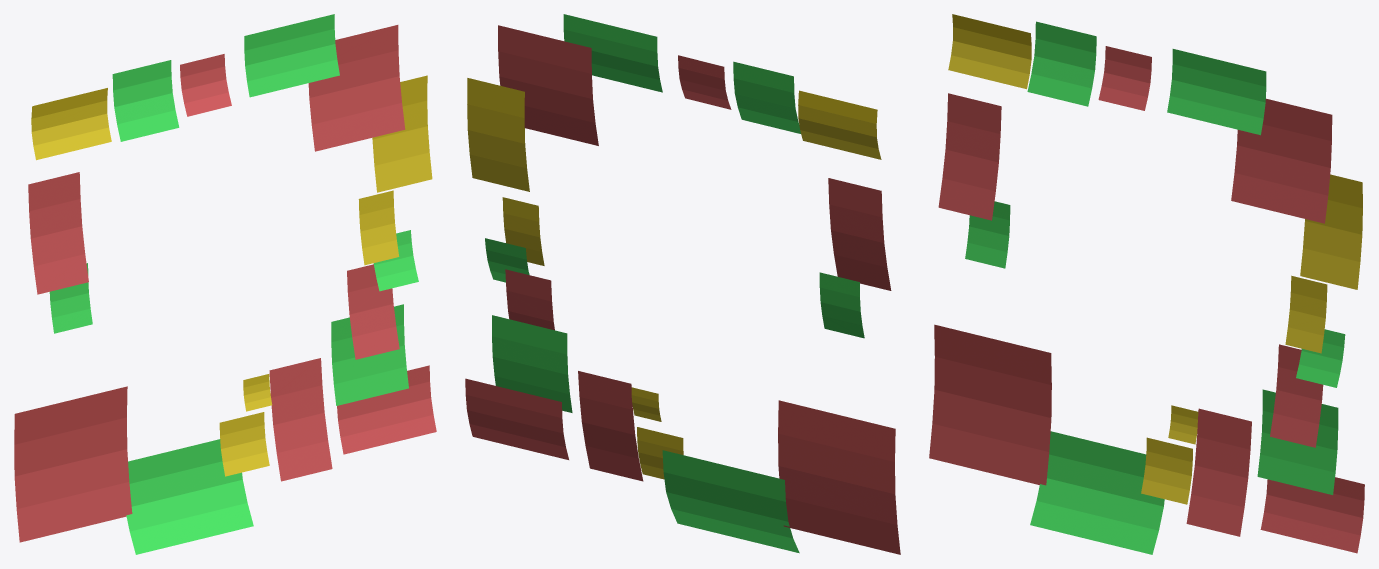
File: Computer_001_postIt.fbx
3 views of the same model, side by side, from view 1: azimuth 30°, elevation 25°; view 2: azimuth 150°, elevation 25°; view 3: azimuth 330°, elevation 25° (orthographic). The views are drawn at different scales.
Parts seen in each view (by area): view 1: Plane.018; view 2: Plane.018; view 3: Plane.018.
Boxes of the visible parts, left/top/right/bottom form: Plane.018: left=14, top=14, right=436, bottom=554; Plane.018: left=465, top=14, right=900, bottom=554; Plane.018: left=929, top=14, right=1364, bottom=554.
Bounding box in the file's own units: 42.43 × 46.76 × 2.69.
Materials: 1 (1 with a texture image).
